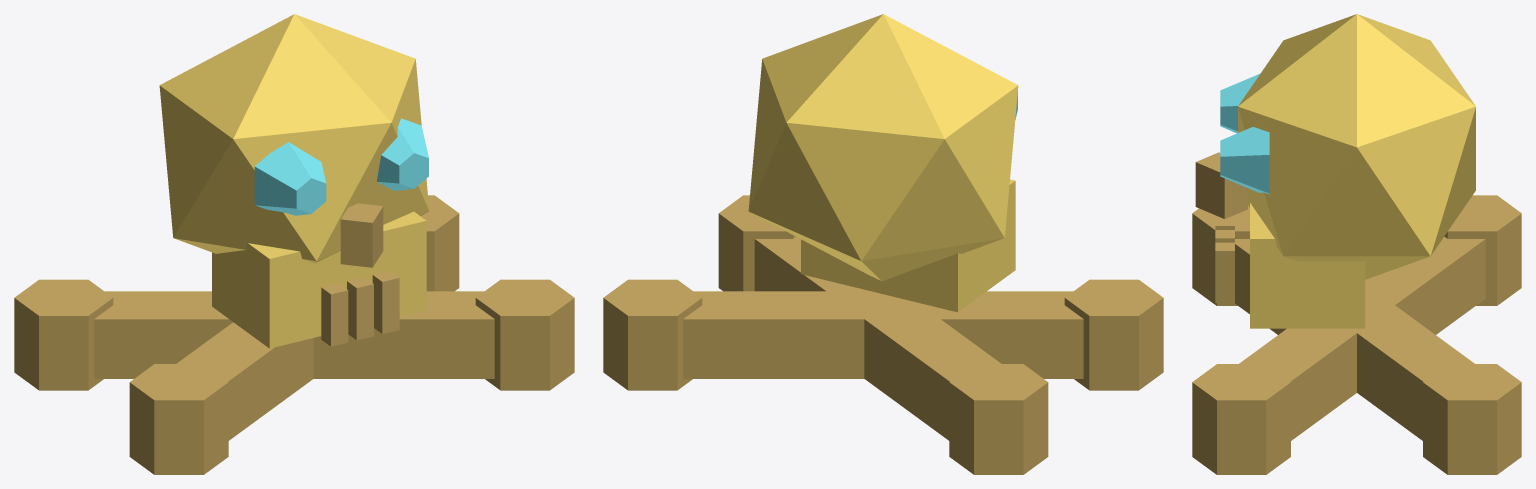
File: Calavera_Oro.fbx
The picture shows the model from 3 angles, left to right: view 1: azimuth 30°, elevation 25°; view 2: azimuth 150°, elevation 25°; view 3: azimuth 270°, elevation 25°; orthographic projection.
Visible parts, largest first — view 1: Malla_Calavera_Oro; view 2: Malla_Calavera_Oro; view 3: Malla_Calavera_Oro.
Part boxes in pixels (box(x1,y1,x2,y2)): Malla_Calavera_Oro: box(14, 14, 574, 474); Malla_Calavera_Oro: box(603, 14, 1163, 474); Malla_Calavera_Oro: box(1192, 14, 1521, 474).
Bounding box in the file's own units: 0.2944 × 0.24 × 0.2.
